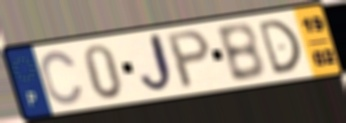0: (81, 43, 126, 101)
B: (214, 20, 268, 85)
C: (39, 49, 86, 107)
D: (256, 17, 305, 77)
J: (137, 31, 177, 97)
P: (165, 27, 213, 92)
